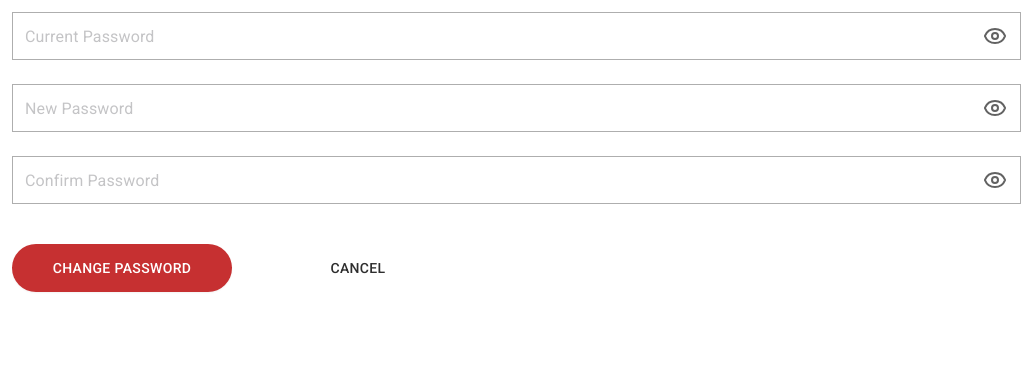
Test: ChangePasswordForm Component › shows validation error when submitting empty fields
Click the button "CHANGE PASSWORD" at (122, 268), box [12,244,232,292]
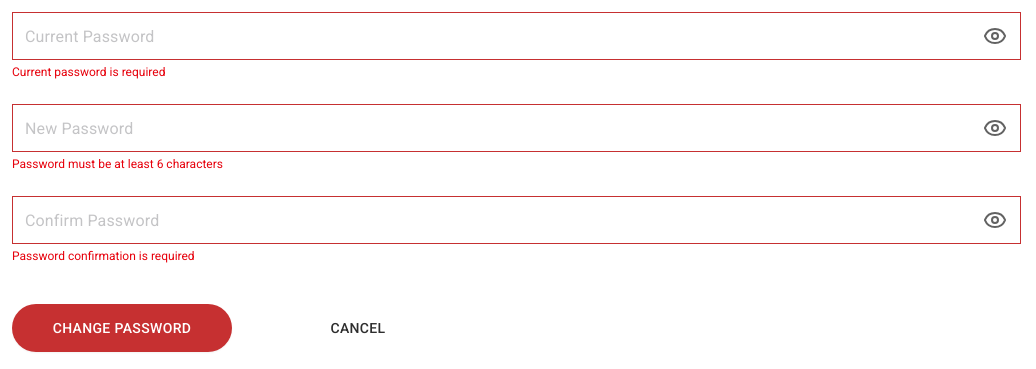
expect the text "Current password is required" is shown: met, box [12,65,165,79]
